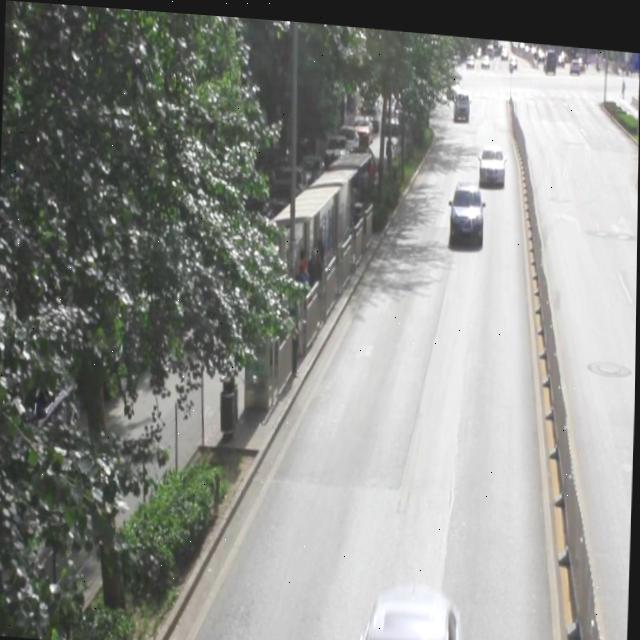car: (359, 569, 467, 640), (448, 172, 483, 234), (477, 137, 504, 178)
